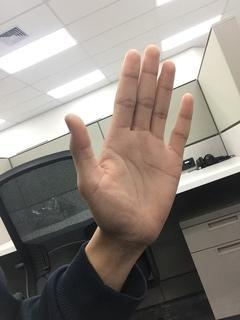hand: (66, 42, 194, 248)
